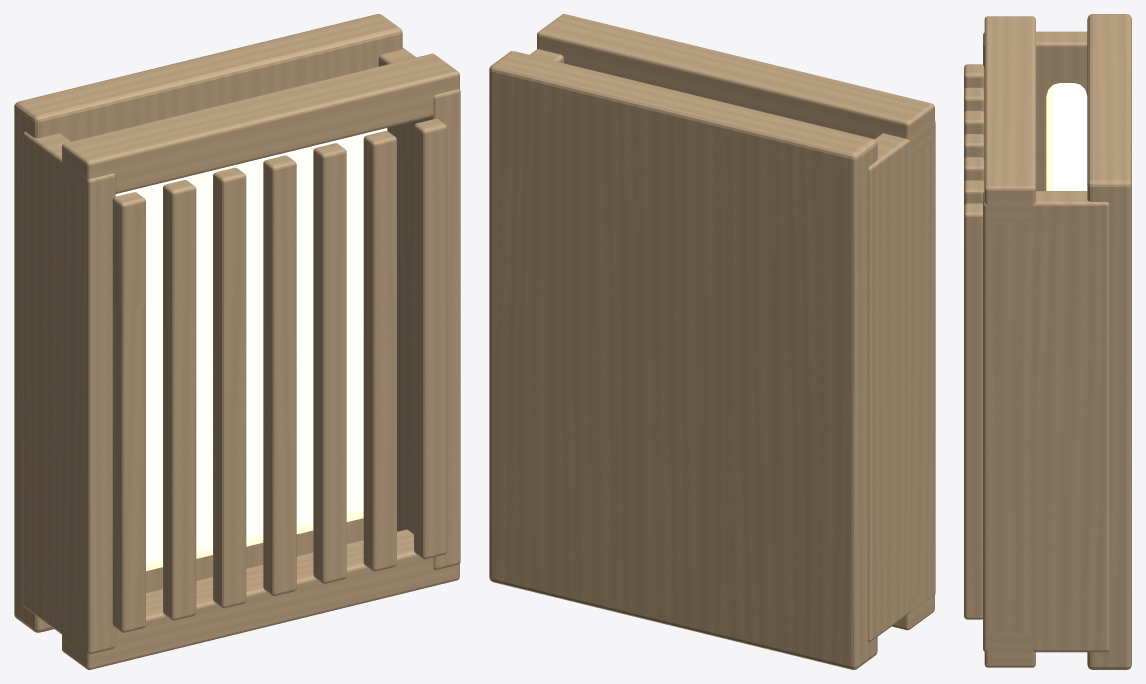
Rendered from lighting_timber-shade.glb.
3 views of the same model, side by side, from view 1: azimuth 30°, elevation 25°; view 2: azimuth 150°, elevation 25°; view 3: azimuth 270°, elevation 25° (orthographic). The views are drawn at different scales.
Visible parts, largest first — view 1: lighting_timber-shade_body; view 2: lighting_timber-shade_body; view 3: lighting_timber-shade_body.
Part boxes in pixels (x1=…): lighting_timber-shade_body: x1=14, y1=14, x2=460, y2=669; lighting_timber-shade_body: x1=489, y1=14, x2=935, y2=669; lighting_timber-shade_body: x1=964, y1=14, x2=1131, y2=669.
Bounding box in the file's own units: 0.238 × 0.315 × 0.098.
2 materials, 1 textured.
